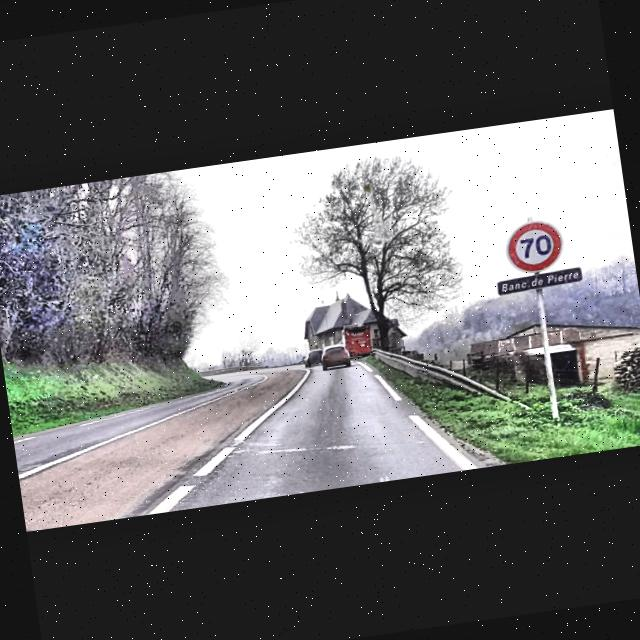speed_70: (507, 221, 562, 272)
